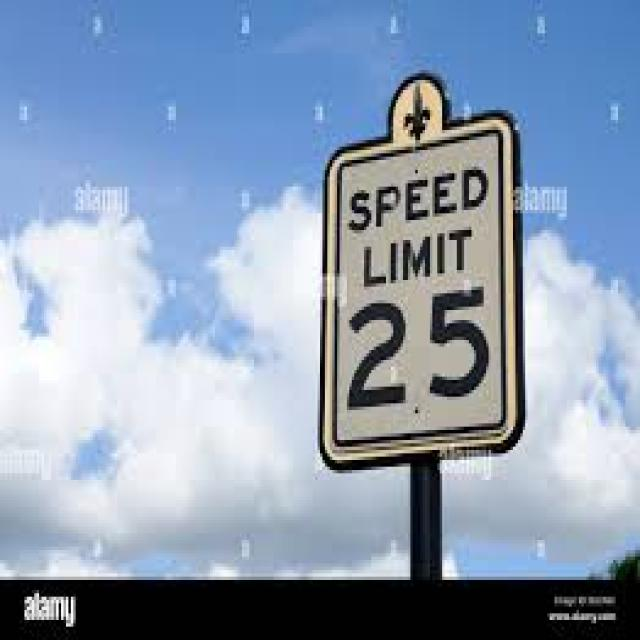speedLimit25: (326, 159, 509, 435)
